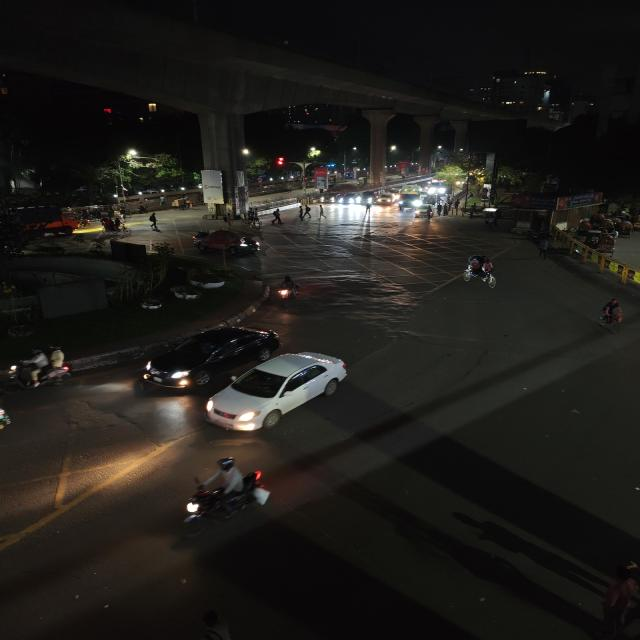bicycle: (596, 297, 626, 331)
bus: (397, 184, 426, 212)
car: (200, 349, 358, 436), (128, 324, 281, 394), (377, 192, 395, 208), (339, 193, 362, 205), (318, 194, 341, 204), (362, 192, 376, 202)
motorcycle: (177, 454, 273, 531), (2, 345, 76, 393), (267, 273, 303, 311)
pedestrian: (144, 212, 164, 235), (539, 237, 553, 261), (466, 201, 481, 219), (483, 212, 498, 230), (269, 210, 285, 224), (316, 205, 328, 221), (250, 217, 263, 230), (421, 206, 434, 219), (296, 205, 305, 222), (365, 201, 373, 217), (436, 204, 446, 216), (453, 198, 461, 211)
rickshaw: (189, 227, 263, 258), (456, 252, 500, 288), (92, 218, 138, 239)
